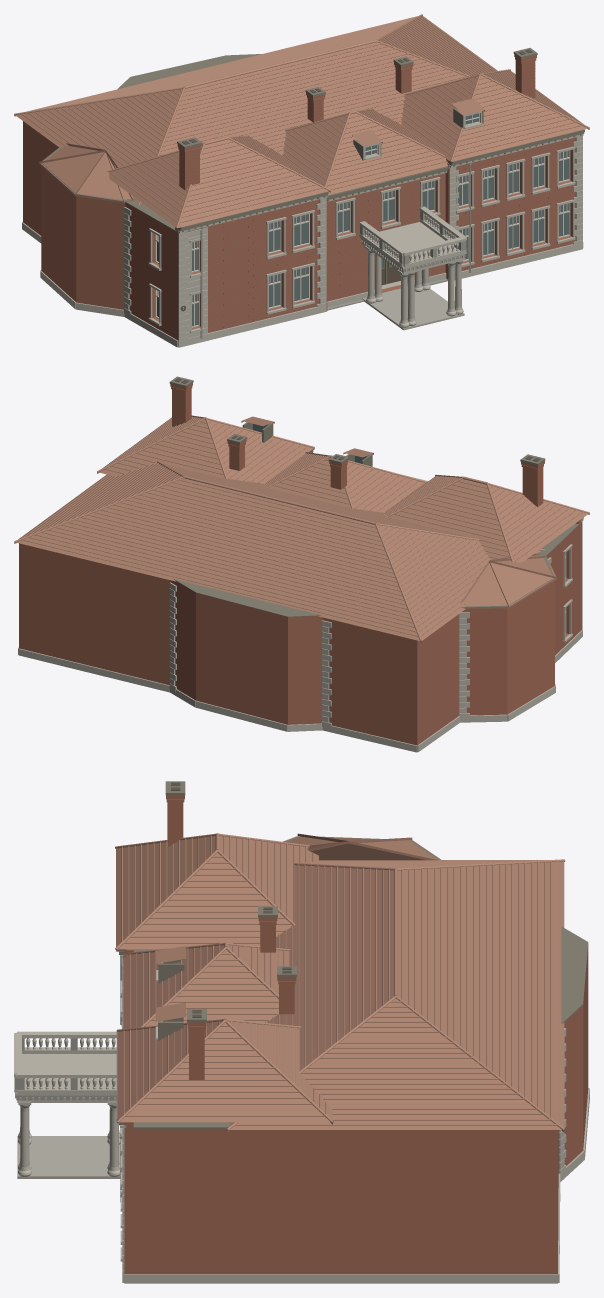
Rendered from huangpu-ruijin-guesthouse-01-raw.glb.
3 renders of one model, top to bottom at view 1: azimuth 30°, elevation 25°; view 2: azimuth 150°, elevation 25°; view 3: azimuth 270°, elevation 25°, orthographic. The views are drawn at different scales.
Parts seen in each view (by area): view 1: 瑞金宾馆1号楼（马立斯住宅主楼与庭院立面）; view 2: 瑞金宾馆1号楼（马立斯住宅主楼与庭院立面）; view 3: 瑞金宾馆1号楼（马立斯住宅主楼与庭院立面）.
Boxes of the visible parts, bbox=[...] form: 瑞金宾馆1号楼（马立斯住宅主楼与庭院立面）: bbox=[14, 14, 589, 347]; 瑞金宾馆1号楼（马立斯住宅主楼与庭院立面）: bbox=[14, 376, 589, 752]; 瑞金宾馆1号楼（马立斯住宅主楼与庭院立面）: bbox=[14, 781, 589, 1283].
Bounding box in the file's own units: 33.07 × 12.98 × 27.14.
